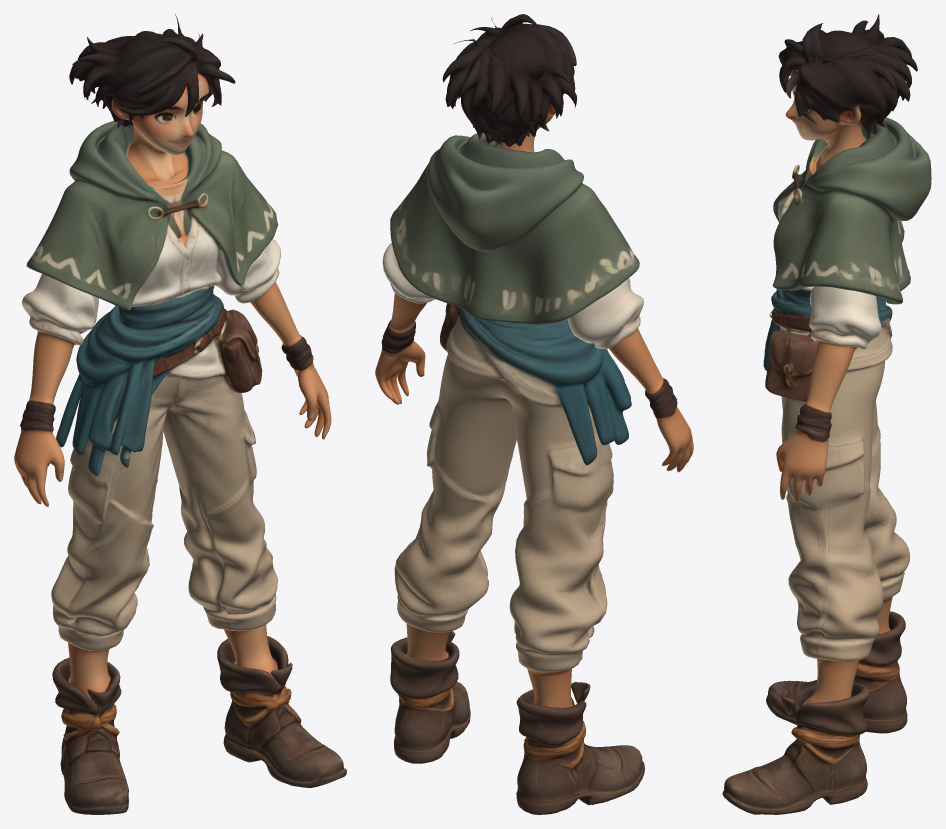
The model's file is source.glb.
3 views of the same model, side by side, from view 1: azimuth 30°, elevation 25°; view 2: azimuth 150°, elevation 25°; view 3: azimuth 270°, elevation 25° (orthographic). The views are drawn at different scales.
Visible parts, largest first — view 1: model; view 2: model; view 3: model.
Boxes of the visible parts, box(x1,y1,x2,y2) form: model: box(14, 14, 346, 814); model: box(375, 14, 693, 814); model: box(722, 14, 931, 814).
Size of the model in its own units: 0.8063 by 1.89 by 0.4942.
1 material, 1 textured.
